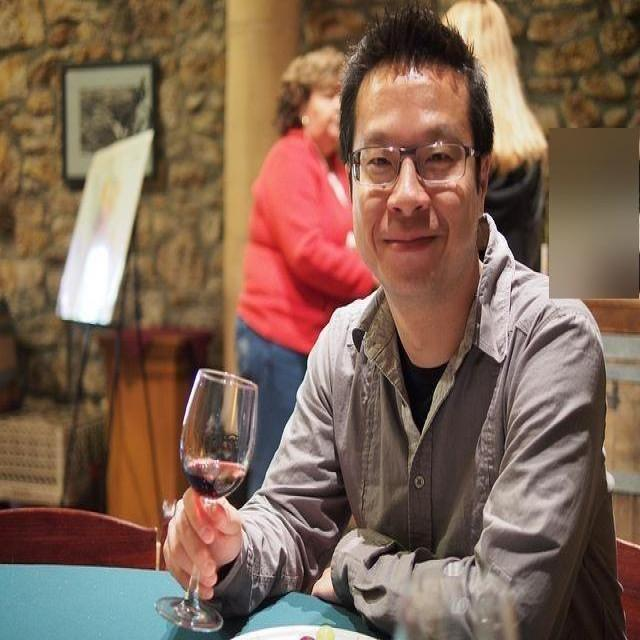glass-wine: (155, 368, 259, 635)
